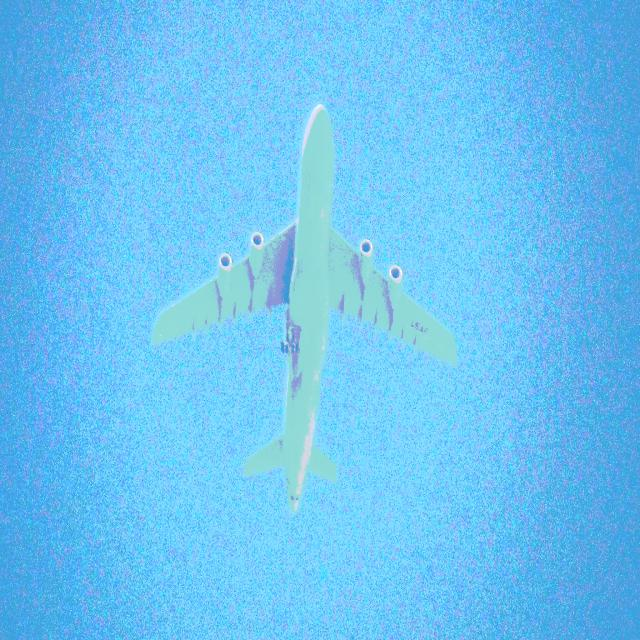Aircraft: (148, 94, 461, 518)
